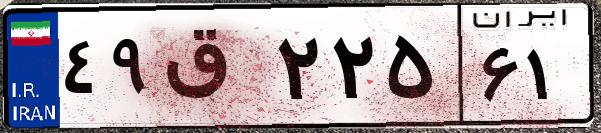1: (525, 38, 570, 115)
2: (270, 28, 330, 110), (330, 28, 385, 110)
4: (57, 26, 110, 100)
5: (385, 28, 445, 110)
6: (475, 38, 525, 113)
9: (110, 28, 158, 98)
ق: (158, 20, 270, 120)
